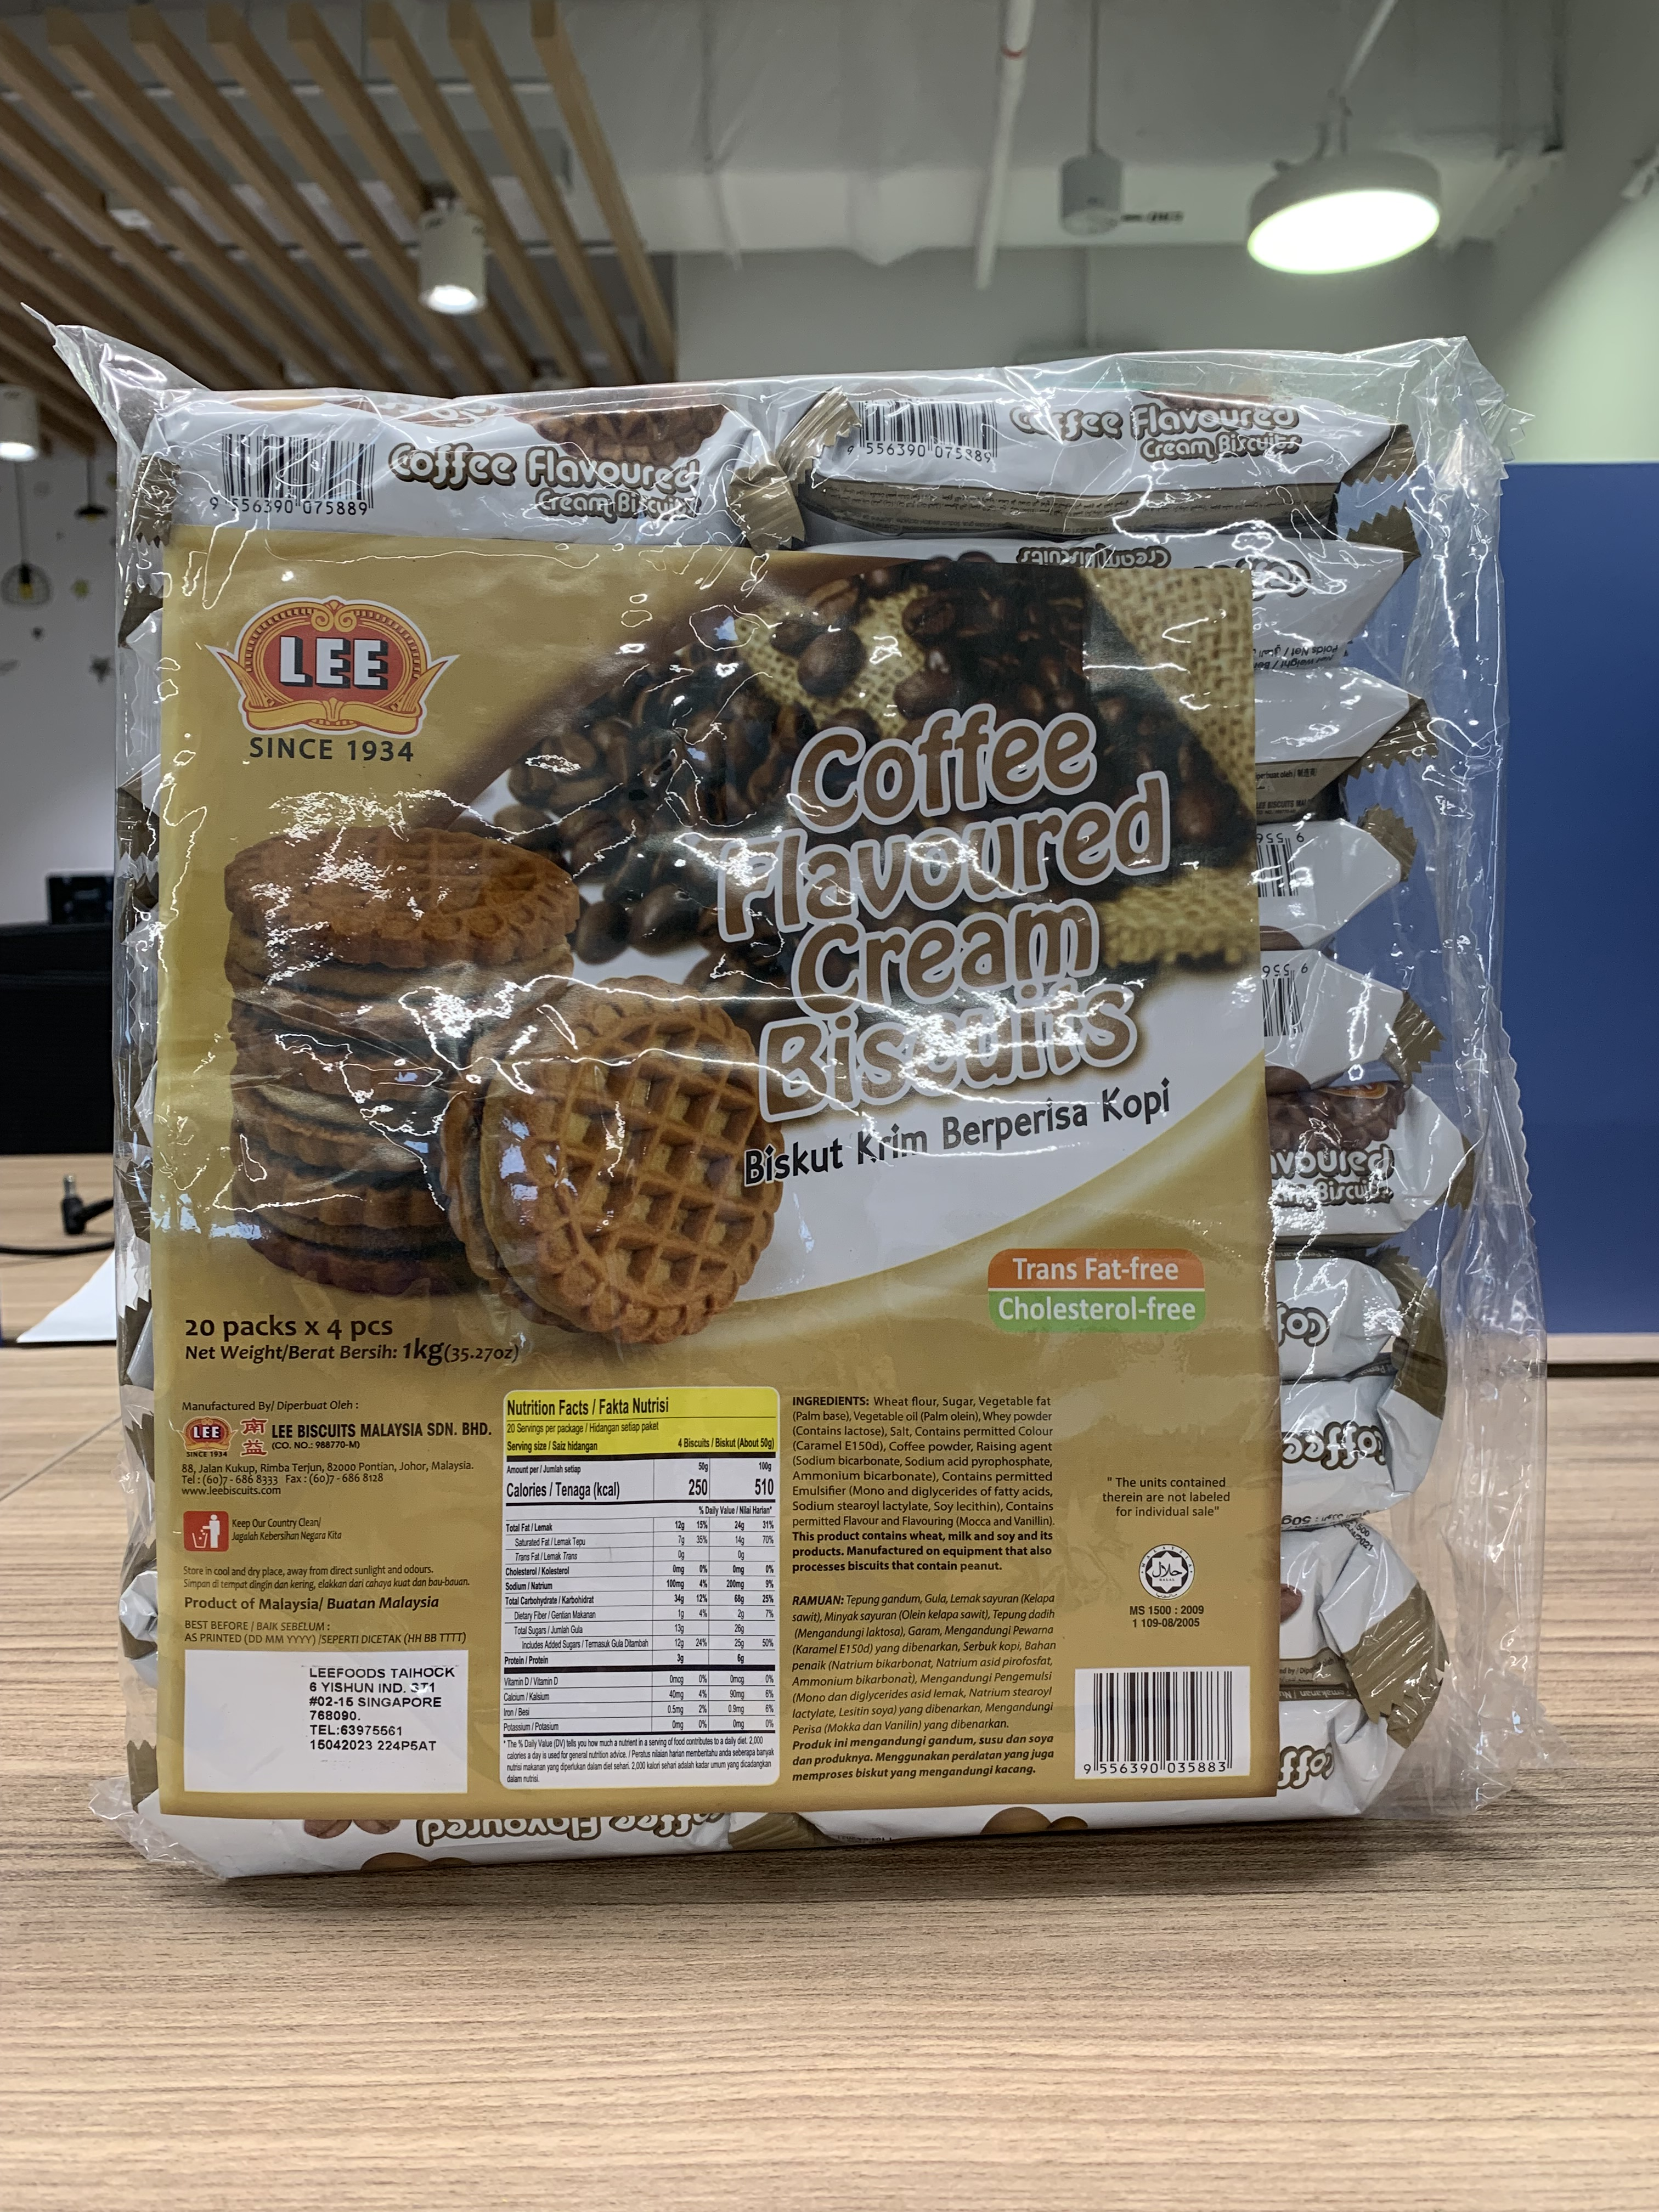halal: (1140, 1545, 1192, 1599)
